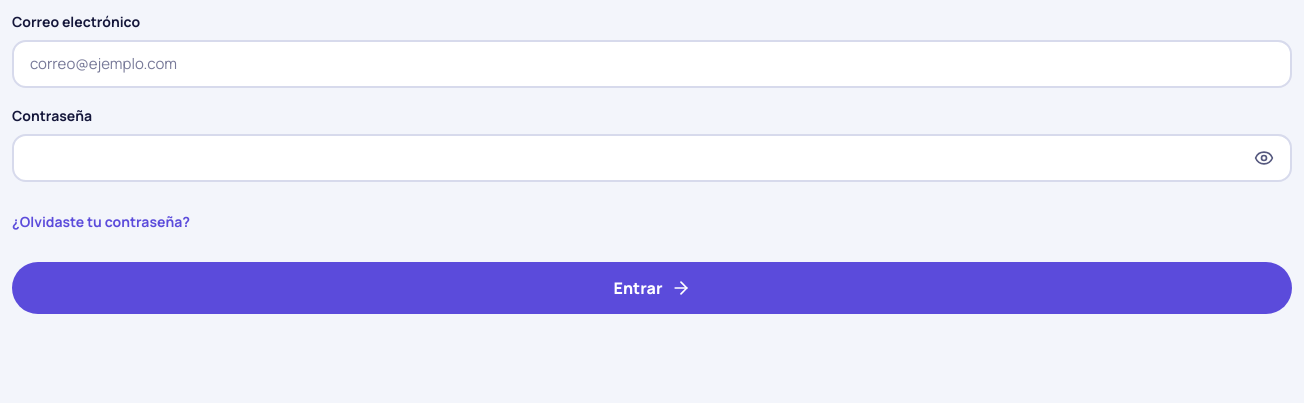
LoginForm › shows the API's generic error in a focused alert
This screenshot has width=1304, height=403.
Type "ana@example.com" into the field labelled "Correo electrónico".
click(652, 64); type("ana@example.com")  # box [12,40,1292,88]
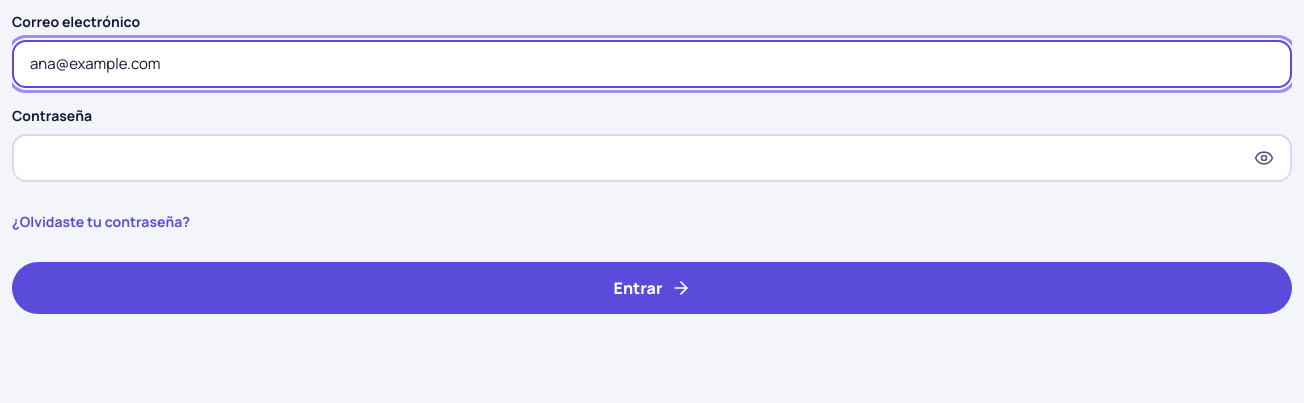
Type "mala" into the password field labelled "Contraseña".
click(652, 158); type("mala")  # box [12,134,1292,182]
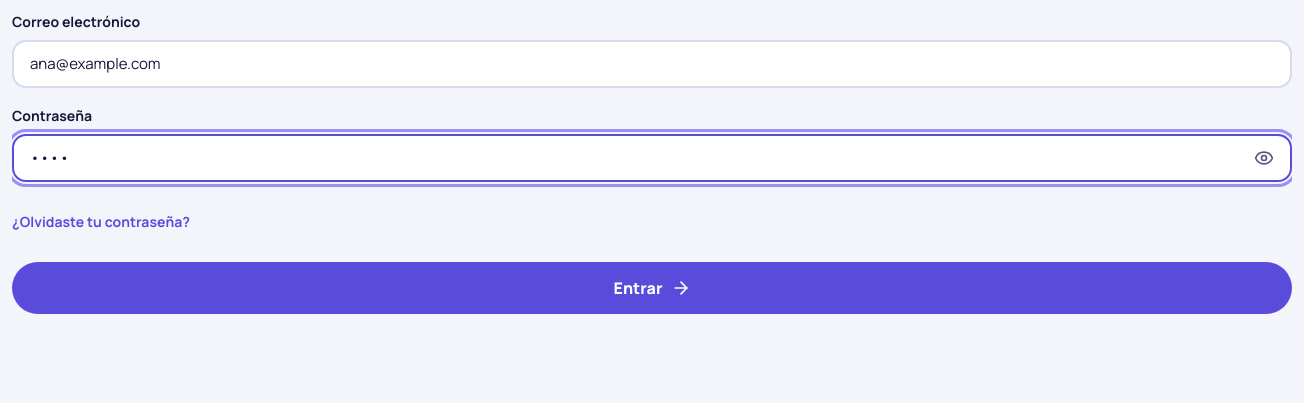
Click the button "Entrar".
click(652, 288)  # box [12,262,1292,314]
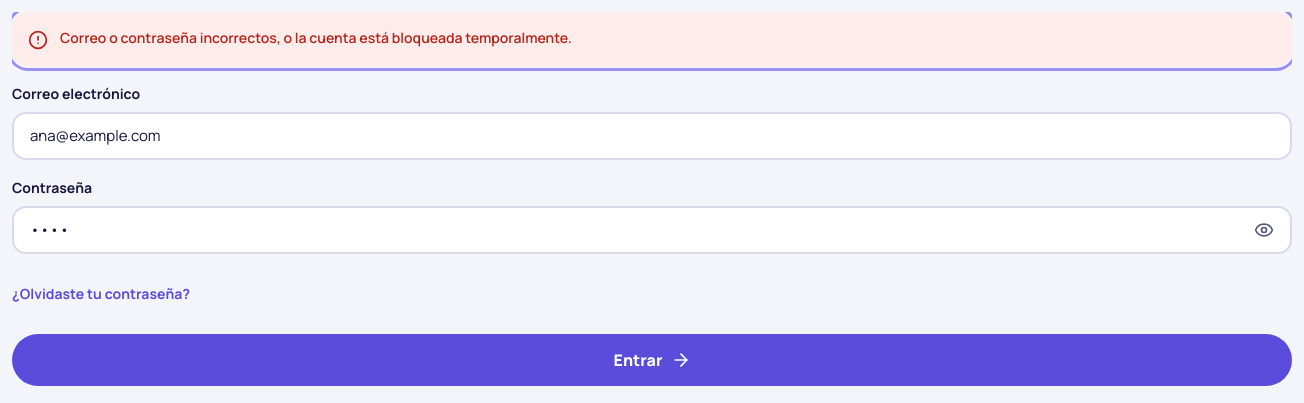
Check: the message shows "Correo o contraseña incorrectos", box [60,28,572,47]
